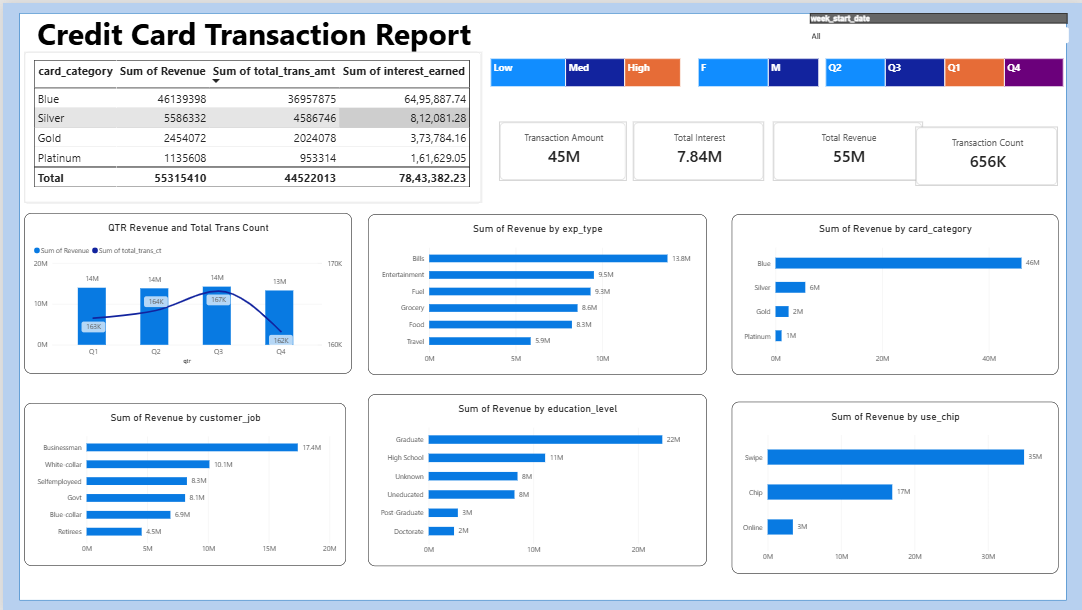

Layout of this report page (visuals, bound fields, positions):
{"tool":"powerbi","page":{"name":"Credit_Card_Transaction","canvas":[1920,1080],"ordinal":1},"visuals":[{"type":"shape","box":[28.9,17.8,1862.2,1044.4],"z":0},{"type":"textbox","box":[11.1,17.8,871.1,86.7],"z":1000},{"type":"lineStackedColumnComboChart","title":"QTR Revenue and Total Trans Count","fields":{"Category":["public cc_detail.qtr"],"Y":["Sum(public cc_detail.Revenue)"],"Y2":["Sum(public cc_detail.total_trans_ct)"]},"box":[38,374,582.7,285.9],"z":2000},{"type":"barChart","fields":{"Category":["public cc_detail.exp_type"],"Y":["Sum(public cc_detail.Revenue)"]},"box":[647.9,374.6,602.6,285.9],"z":3000},{"type":"barChart","fields":{"Category":["public cust_detail.education_level"],"Y":["Sum(public cc_detail.Revenue)"]},"box":[647.9,694.9,602.6,305.8],"z":4000},{"type":"barChart","fields":{"Category":["public cust_detail.customer_job"],"Y":["Sum(public cc_detail.Revenue)"]},"box":[38,712,571.9,289.5],"z":5000},{"type":"barChart","fields":{"Category":["public cc_detail.card_category"],"Y":["Sum(public cc_detail.Revenue)"]},"box":[1295.7,374.6,580.9,285.9],"z":6000},{"type":"barChart","fields":{"Category":["public cc_detail.use_chip"],"Y":["Sum(public cc_detail.Revenue)"]},"box":[1295.7,709.4,580.9,305.8],"z":7000},{"type":"tableEx","fields":{"Values":["public cc_detail.card_category","Sum(public cc_detail.Revenue)","Sum(public cc_detail.total_trans_amt)","Sum(public cc_detail.interest_earned)"]},"box":[38,86,812,270],"z":8000},{"type":"cardVisual","fields":{"Data":["Sum(public cc_detail.Revenue)"]},"box":[1368.1,211.7,266.7,105],"z":9000},{"type":"cardVisual","fields":{"Data":["Sum(public cc_detail.total_trans_amt)"]},"box":[881.3,211.7,226.7,105],"z":10000},{"type":"cardVisual","fields":{"Data":["Sum(public cc_detail.interest_earned)"]},"box":[1120.2,211.7,233.3,105],"z":11000},{"type":"cardVisual","fields":{"Data":["Sum(public cc_detail.total_trans_ct)"]},"box":[1622.2,220,253.3,105],"z":12000},{"type":"slicer","fields":{"Values":["public cc_detail.week_start_date"]},"box":[1426.7,17.8,473.3,106.7],"z":13000},{"type":"treemap","fields":{"Group":["public cust_detail.gender"],"Values":["CountNonNull(public cc_detail.client_num)"]},"box":[1219.7,85.1,246.1,79.6],"z":14000},{"type":"treemap","fields":{"Group":["public cust_detail.IncomeGroup"],"Values":["CountNonNull(public cc_detail.client_num)"]},"box":[850.5,85.1,369.2,79.6],"z":15000},{"type":"treemap","fields":{"Group":["public cc_detail.qtr"],"Values":["CountNonNull(public cc_detail.client_num)"]},"box":[1445.9,85.1,454.2,79.6],"z":16000}]}

Visuals, with their boxes in screenshot pixels (x1, y1, x2, y2), scaled from the page's 1920x1080 canvas onto the 1082x610 screenshot:
shape: <region>16, 10, 1066, 600</region>
textbox: <region>6, 10, 497, 59</region>
"QTR Revenue and Total Trans Count" lineStackedColumnComboChart: <region>21, 211, 350, 373</region>
barChart - public cc_detail.exp_type x Sum(public cc_detail.Revenue): <region>365, 212, 705, 373</region>
barChart - public cust_detail.education_level x Sum(public cc_detail.Revenue): <region>365, 392, 705, 565</region>
barChart - public cust_detail.customer_job x Sum(public cc_detail.Revenue): <region>21, 402, 344, 566</region>
barChart - public cc_detail.card_category x Sum(public cc_detail.Revenue): <region>730, 212, 1058, 373</region>
barChart - public cc_detail.use_chip x Sum(public cc_detail.Revenue): <region>730, 401, 1058, 573</region>
tableEx - public cc_detail.card_category x Sum(public cc_detail.Revenue): <region>21, 49, 479, 201</region>
cardVisual - Sum(public cc_detail.Revenue): <region>771, 120, 921, 179</region>
cardVisual - Sum(public cc_detail.total_trans_amt): <region>497, 120, 624, 179</region>
cardVisual - Sum(public cc_detail.interest_earned): <region>631, 120, 763, 179</region>
cardVisual - Sum(public cc_detail.total_trans_ct): <region>914, 124, 1057, 184</region>
slicer - public cc_detail.week_start_date: <region>804, 10, 1071, 70</region>
treemap - public cust_detail.gender x CountNonNull(public cc_detail.client_num): <region>687, 48, 826, 93</region>
treemap - public cust_detail.IncomeGroup x CountNonNull(public cc_detail.client_num): <region>479, 48, 687, 93</region>
treemap - public cc_detail.qtr x CountNonNull(public cc_detail.client_num): <region>815, 48, 1071, 93</region>
